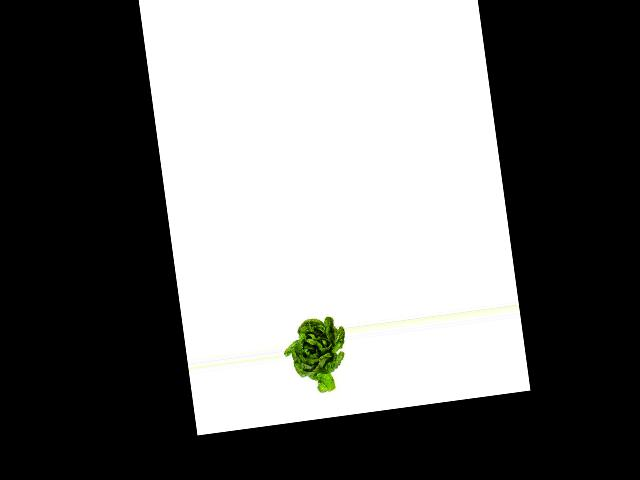lettuce: (279, 313, 350, 399)
